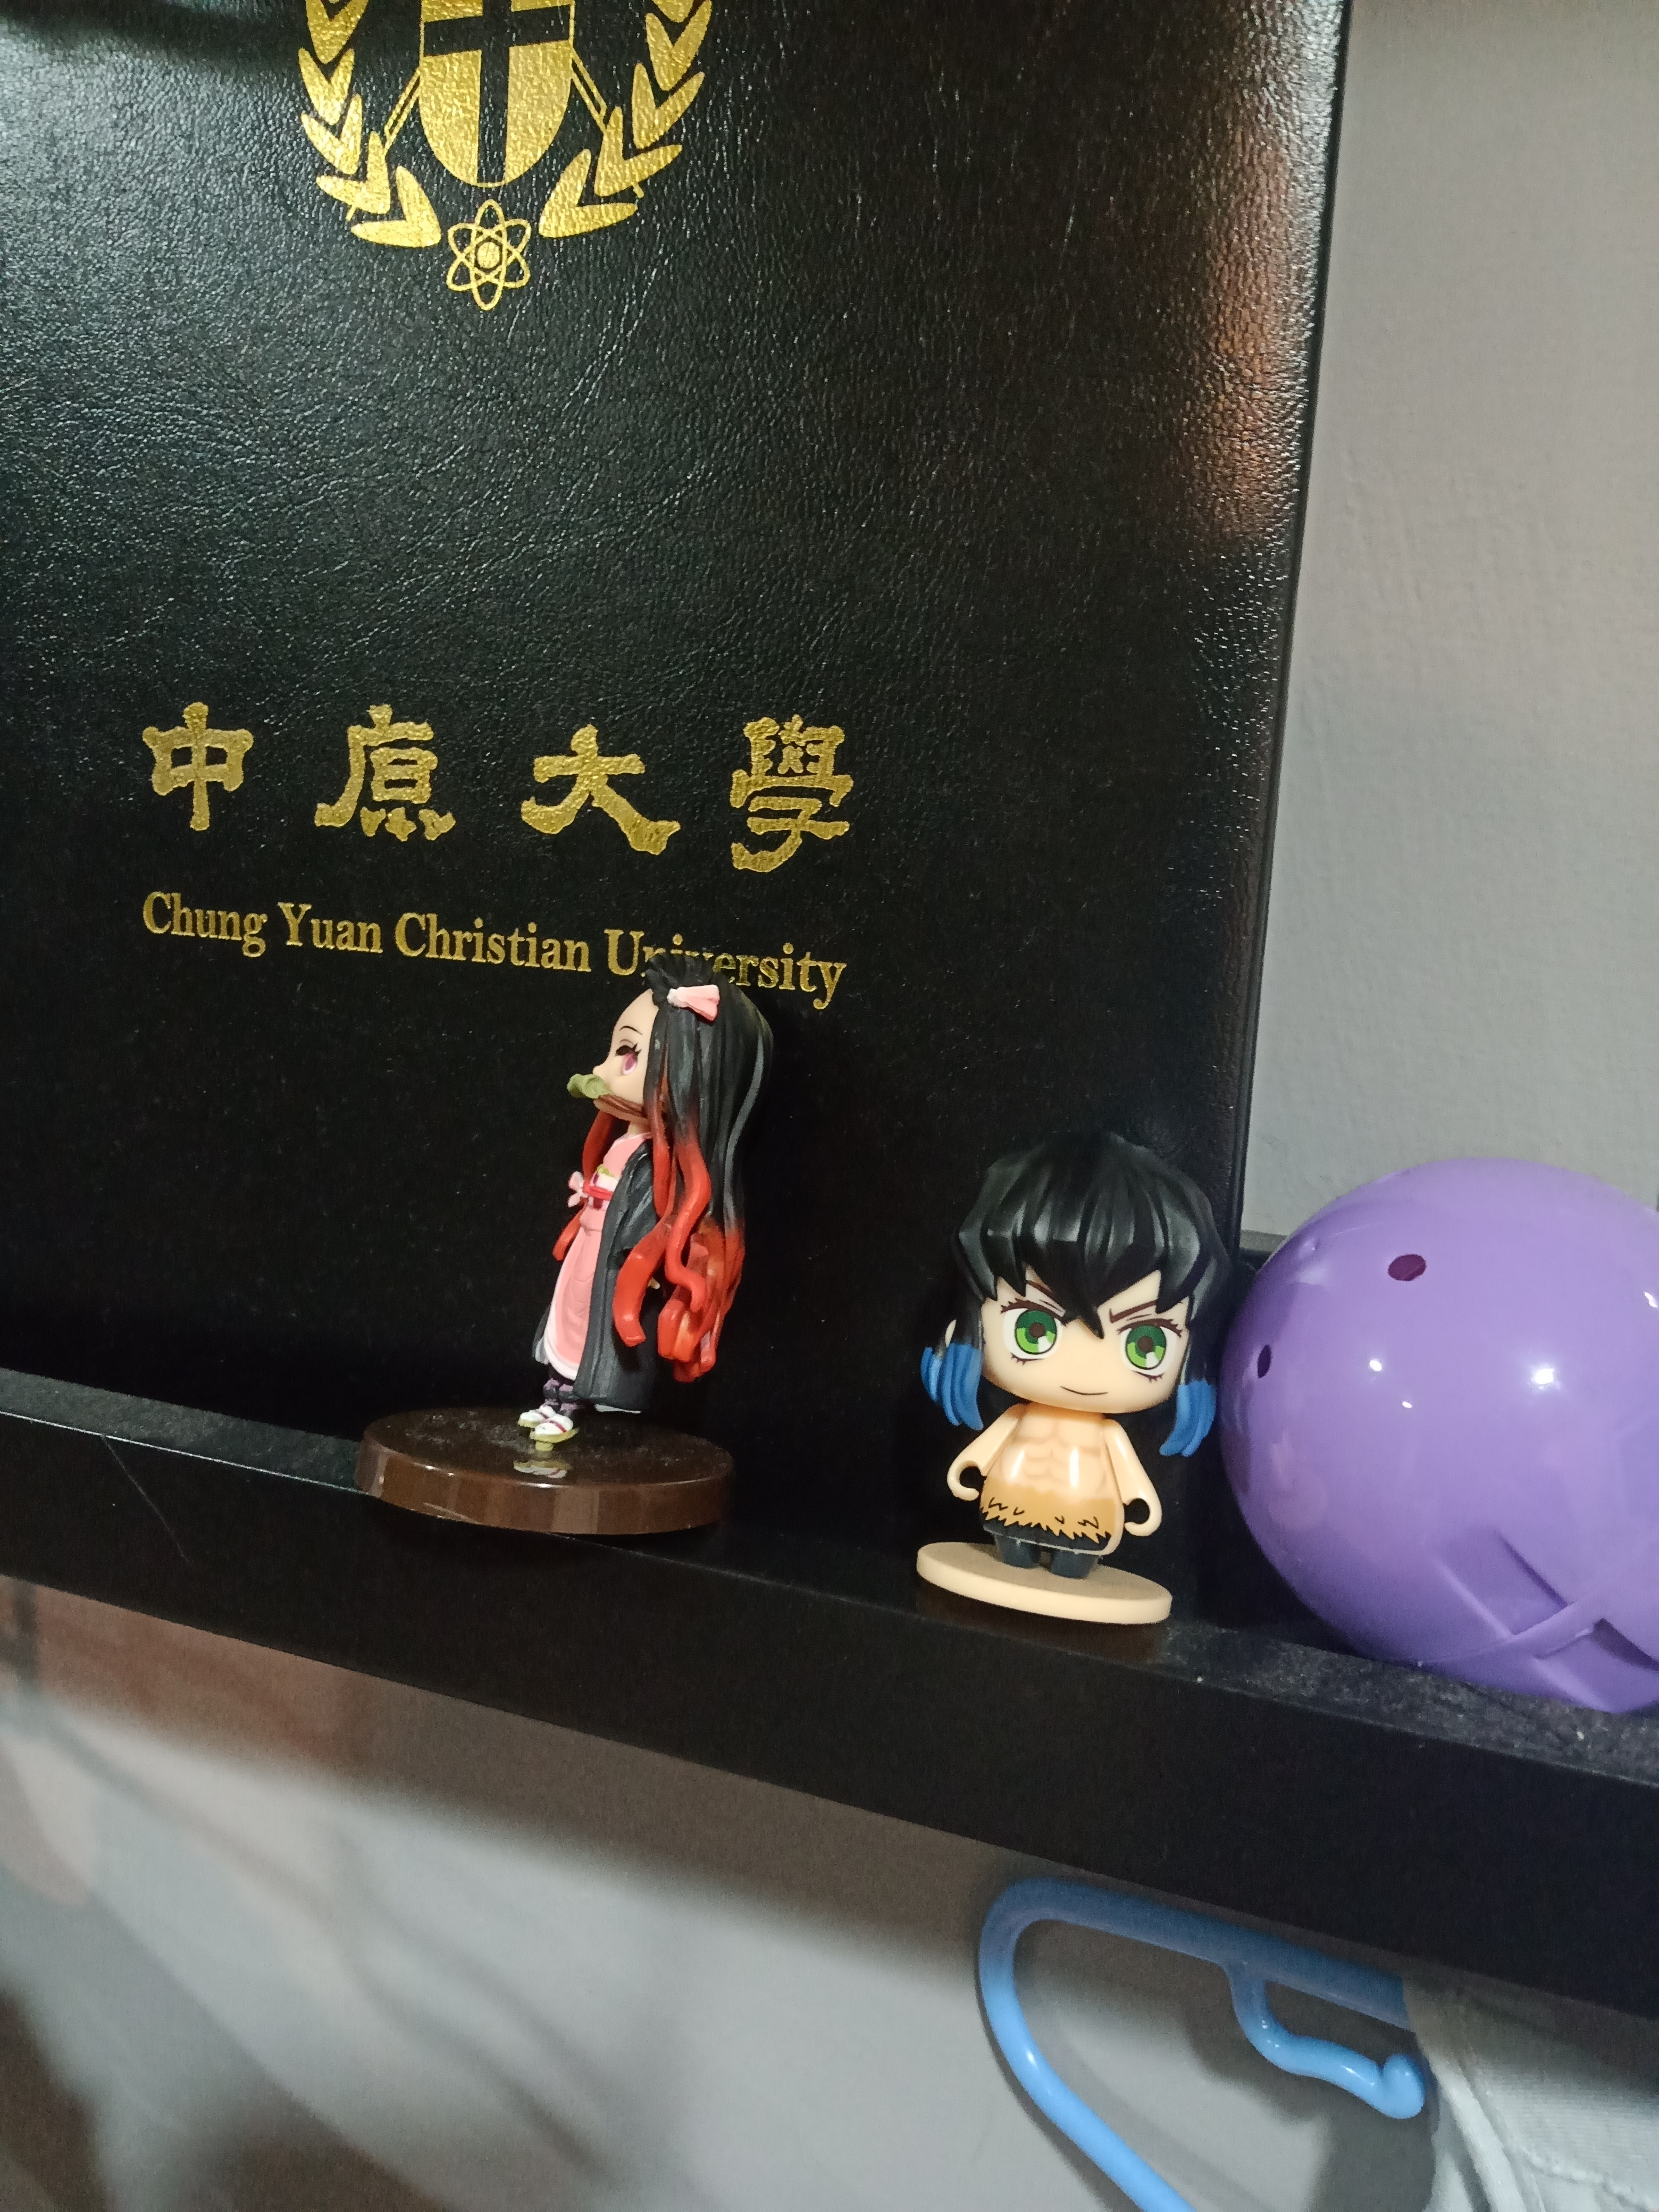Inosuke: (894, 1106, 1263, 1660)
Nezuko: (342, 939, 789, 1587)
